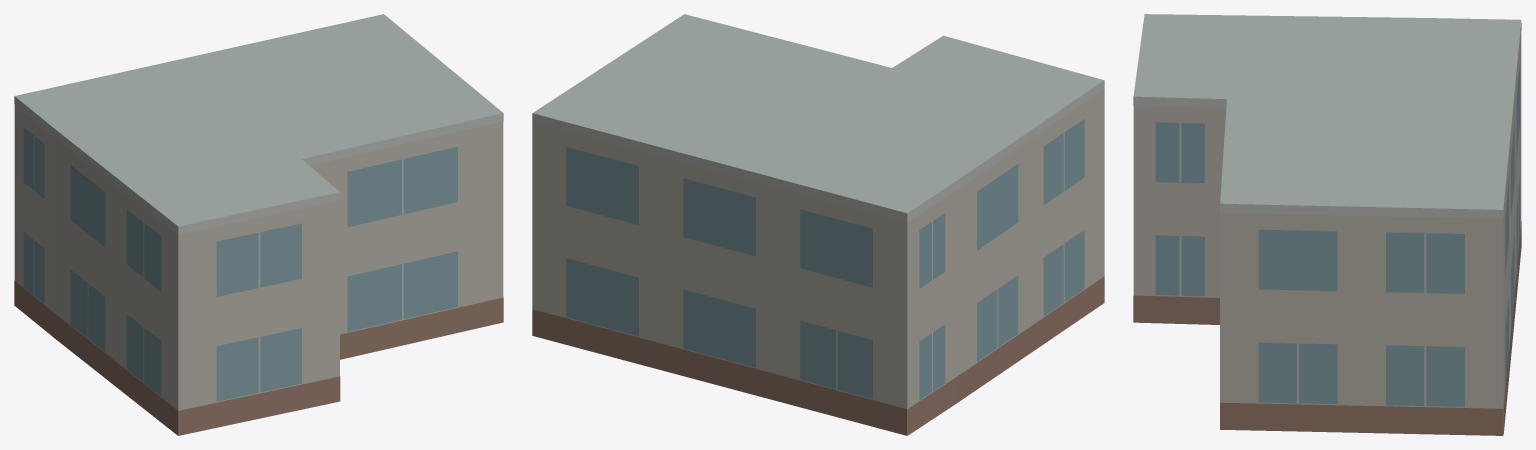
The model's file is survey-upis-32931193.glb.
The picture shows the model from 3 angles, left to right: view 1: azimuth 30°, elevation 25°; view 2: azimuth 150°, elevation 25°; view 3: azimuth 270°, elevation 25°; orthographic projection. The views are drawn at different scales.
Parts seen in each view (by area): view 1: survey-upis-32931193.tmp; view 2: survey-upis-32931193.tmp; view 3: survey-upis-32931193.tmp.
Boxes of the visible parts, <box> form: survey-upis-32931193.tmp: <box>14,14,503,435</box>; survey-upis-32931193.tmp: <box>532,14,1104,435</box>; survey-upis-32931193.tmp: <box>1133,14,1521,435</box>.
Bounding box in the file's own units: 11.35 × 6.1 × 9.5.
